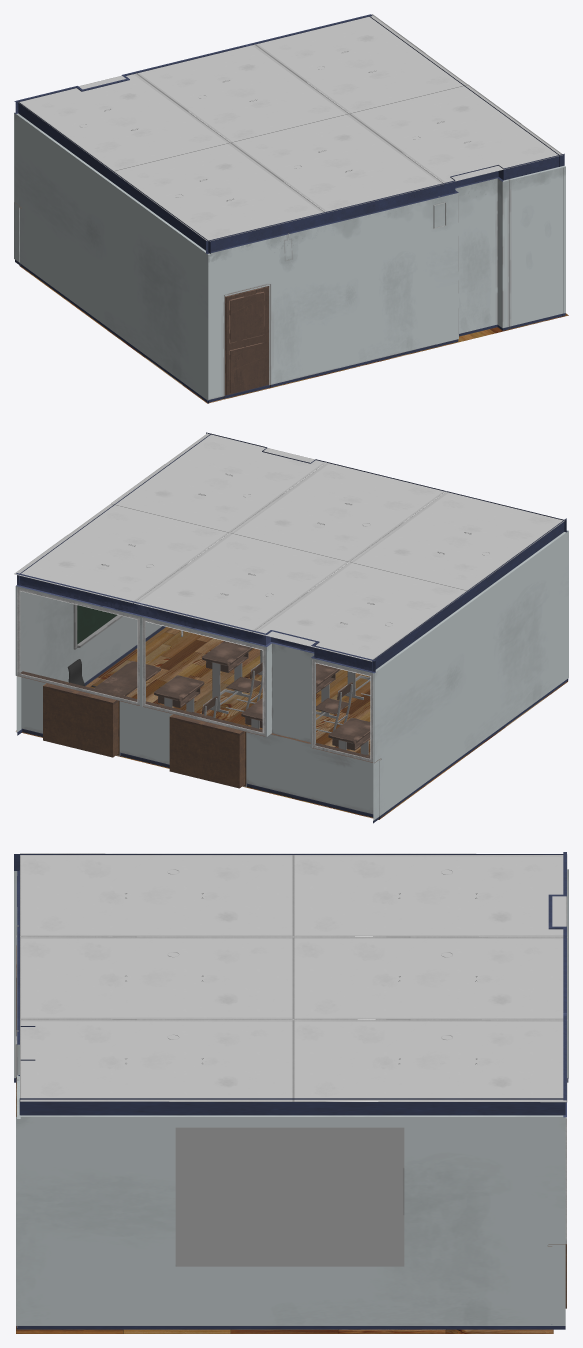
File: the_japanese_school_classroom.glb
3 renders of one model, top to bottom at view 1: azimuth 30°, elevation 25°; view 2: azimuth 150°, elevation 25°; view 3: azimuth 270°, elevation 25°, orthographic. The views are drawn at different scales.
Visible parts, largest first — view 1: Roof, Wall, Wall.001, Windows, Floor; view 2: Roof, Windows, Wall.001, Floor, Wall.002, School desk, Teacher desk, School blackboards, Wall; view 3: Roof, Wall.002, School blackboards, Floor, Wall.001, Windows, Wall.
Part boxes in pixels (x1,y1,x2,y2): Roof: (18, 14, 563, 241); Wall: (206, 153, 565, 402); Wall.001: (14, 102, 210, 403); Windows: (14, 14, 372, 266); Floor: (19, 265, 568, 403); Roof: (14, 433, 564, 661); Windows: (15, 573, 381, 819); Wall.001: (372, 518, 568, 823); Floor: (16, 627, 567, 819); Wall.002: (16, 434, 210, 735); School desk: (154, 641, 370, 755); Teacher desk: (67, 659, 160, 700); School blackboards: (73, 604, 183, 649); Wall: (206, 432, 567, 681); Roof: (20, 853, 567, 1102); Wall.002: (16, 1098, 565, 1329); School blackboards: (175, 1127, 404, 1266); Floor: (16, 1083, 553, 1333); Wall.001: (14, 854, 568, 1082); Windows: (548, 852, 566, 1324); Wall: (15, 871, 35, 1327).
Bounding box in the file's own units: 7.86 × 3.36 × 7.33.
Materials: 8 (8 with a texture image).
